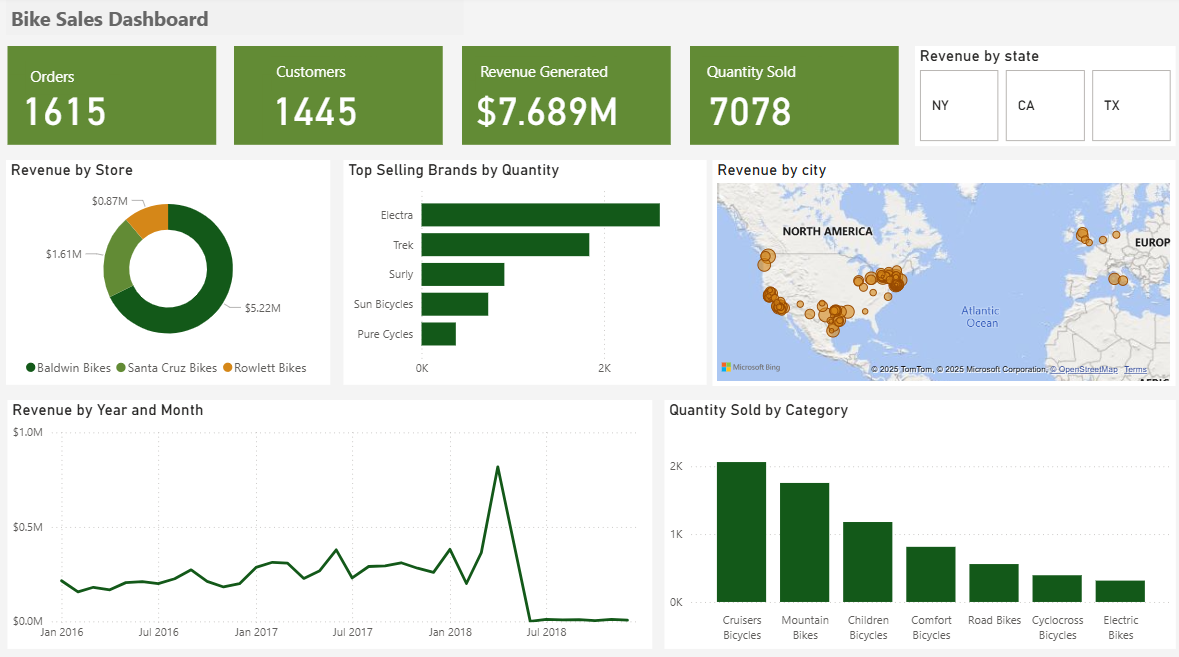

What the dashboard file says about the page in this screenshot:
{"tool":"powerbi","page":{"name":"Dashboard","canvas":[1280,720],"ordinal":0},"visuals":[{"type":"textbox","box":[9.7,4.9,493.9,38.9],"z":0},{"type":"shape","box":[11.3,55.1,225.1,106.9],"z":0,"group":"g4"},{"type":"shape","box":[255.8,55.1,225.1,106.9],"z":0,"group":"g1"},{"type":"shape","box":[502.3,55.1,225.1,106.9],"z":0,"group":"g2"},{"type":"shape","box":[748.5,55.1,225.1,106.9],"z":0,"group":"g3"},{"type":"card","fields":{"Values":["CountNonNull(orders.order_id)"]},"box":[12.9,85.9,119.8,71.2],"z":1000,"group":"g4"},{"type":"card","fields":{"Values":["CountNonNull(customers.customer_id)"]},"box":[286.6,85.9,113.3,71.2],"z":1000,"group":"g1"},{"type":"card","fields":{"Values":["order_items.Revenue"]},"box":[510.4,92.3,166.8,58.3],"z":1000,"group":"g2"},{"type":"card","fields":{"Values":["Sum(order_items.quantity)"]},"box":[751.7,94,123.1,55.1],"z":1000,"group":"g3"},{"type":"donutChart","title":"Revenue by Store","fields":{"Category":["stores.store_name"],"Y":["order_items.Revenue"]},"box":[9.7,178.1,349.8,242.9],"z":1000},{"type":"textbox","box":[296.3,66.4,124.7,37.2],"z":2000,"group":"g1"},{"type":"textbox","box":[516.9,66.4,166.8,37.2],"z":2000,"group":"g2"},{"type":"textbox","box":[761.5,66.4,166.8,37.2],"z":2000,"group":"g3"},{"type":"textbox","box":[30.9,71.3,90,36.2],"z":2000,"group":"g4"},{"type":"clusteredColumnChart","title":"Quantity Sold by Category","fields":{"Category":["categories.category_name"],"Y":["Sum(order_items.quantity)"]},"box":[720.6,437.2,552.2,268.8],"z":2000},{"type":"group","id":"g1","title":"Group 1","box":[255.8,55.1,225.1,106.9],"z":3000},{"type":"group","id":"g2","title":"Group 2","box":[502.3,55.1,225.1,106.9],"z":4000},{"type":"group","id":"g3","title":"Group 3","box":[748.5,55.1,225.1,106.9],"z":5000},{"type":"group","id":"g4","title":"Group 4","box":[11.3,55.1,225.1,106.9],"z":6000},{"type":"lineChart","fields":{"Category":["orders.order_date.Variation.Date Hierarchy.Year","orders.order_date.Variation.Date Hierarchy.Month"],"Y":["order_items.Revenue"]},"box":[11.3,437.2,696.3,268.8],"z":7000},{"type":"barChart","title":"Top Selling Brands by Quantity","fields":{"Y":["Sum(order_items.quantity)"],"Category":["brands.brand_name"]},"box":[374,178.1,391.9,242.9],"z":8000},{"type":"advancedSlicerVisual","fields":{"Values":["customers.state"]},"box":[990.2,54.8,281.6,107.7],"z":9000},{"type":"map","fields":{"Category":["customers.city"],"Size":["order_items.Revenue"]},"box":[773,178,499,243],"z":10000}]}

Visuals, with their boxes in screenshot pixels (x1, y1, x2, y2), scaled from the page's 1280x720 canvas onto the 1179x657 screenshot:
textbox: <box>9,4,464,40</box>
shape: <box>10,50,218,148</box>
shape: <box>236,50,443,148</box>
shape: <box>463,50,670,148</box>
shape: <box>689,50,897,148</box>
card - CountNonNull(orders.order_id): <box>12,78,122,143</box>
card - CountNonNull(customers.customer_id): <box>264,78,368,143</box>
card - order_items.Revenue: <box>470,84,624,137</box>
card - Sum(order_items.quantity): <box>692,86,806,136</box>
"Revenue by Store" donutChart: <box>9,163,331,384</box>
textbox: <box>273,61,388,95</box>
textbox: <box>476,61,630,95</box>
textbox: <box>701,61,855,95</box>
textbox: <box>28,65,111,98</box>
"Quantity Sold by Category" clusteredColumnChart: <box>664,399,1172,644</box>
"Group 1" group: <box>236,50,443,148</box>
"Group 2" group: <box>463,50,670,148</box>
"Group 3" group: <box>689,50,897,148</box>
"Group 4" group: <box>10,50,218,148</box>
lineChart - orders.order_date.Variation.Date Hierarchy.Year x orders.order_date.Variation.Date Hierarchy.Month: <box>10,399,652,644</box>
"Top Selling Brands by Quantity" barChart: <box>344,163,705,384</box>
advancedSlicerVisual - customers.state: <box>912,50,1171,148</box>
map - customers.city x order_items.Revenue: <box>712,162,1172,384</box>
